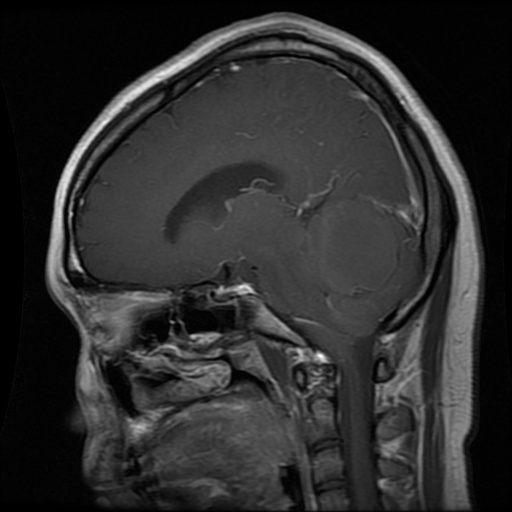glioma: (311, 198, 401, 336)
